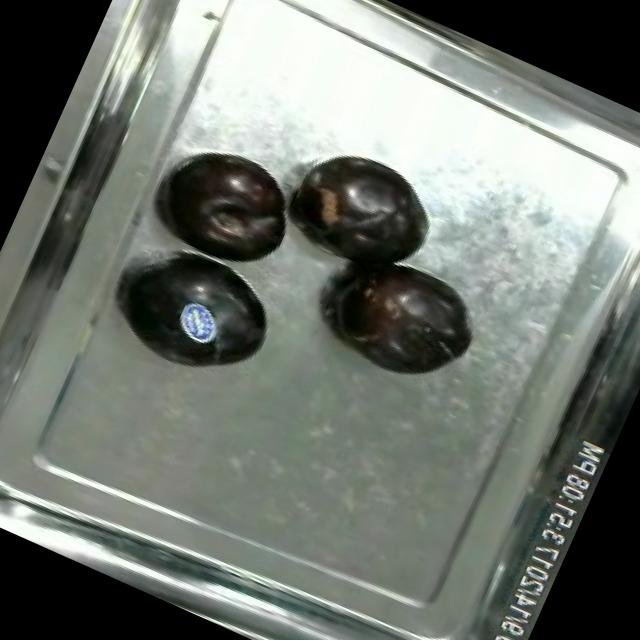Fruit: (105, 228, 297, 404), (316, 244, 491, 401), (146, 130, 312, 284), (282, 134, 448, 274)
